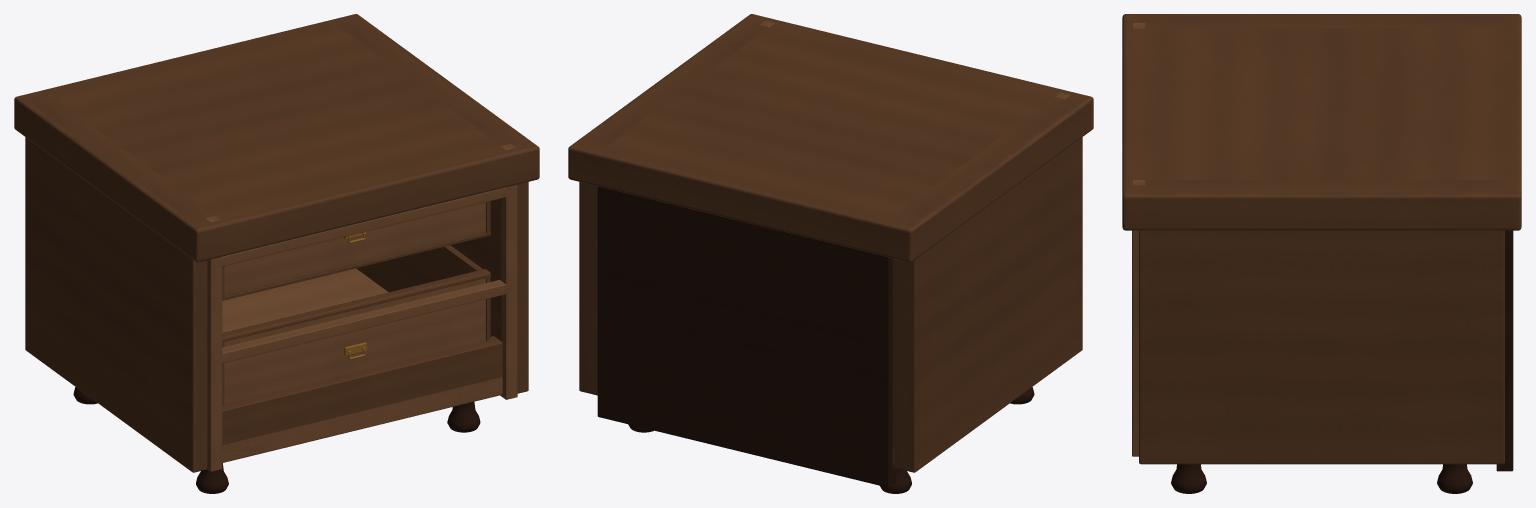
The model's file is asset.glb.
3 renders of one model, left to right at view 1: azimuth 30°, elevation 25°; view 2: azimuth 150°, elevation 25°; view 3: azimuth 270°, elevation 25°, orthographic. The views are drawn at different scales.
Parts seen in each view (by area): view 1: MaterialBatch_Room_furniture_quarter-sawn_oak, MaterialBatch_Room_furniture_light_oak, MaterialBatch_Room_furniture_smoked_walnut; view 2: MaterialBatch_Room_furniture_quarter-sawn_oak, MaterialBatch_Room_furniture_smoked_walnut; view 3: MaterialBatch_Room_furniture_quarter-sawn_oak, MaterialBatch_Room_furniture_smoked_walnut, MaterialBatch_Room_furniture_light_oak.
Part boxes in pixels (x1,y1,x2,y2): MaterialBatch_Room_furniture_quarter-sawn_oak: [14, 14, 539, 472]; MaterialBatch_Room_furniture_light_oak: [206, 144, 517, 471]; MaterialBatch_Room_furniture_smoked_walnut: [73, 387, 480, 493]; MaterialBatch_Room_furniture_quarter-sawn_oak: [568, 14, 1093, 472]; MaterialBatch_Room_furniture_smoked_walnut: [597, 186, 1034, 493]; MaterialBatch_Room_furniture_quarter-sawn_oak: [1122, 14, 1521, 464]; MaterialBatch_Room_furniture_smoked_walnut: [1171, 230, 1513, 493]; MaterialBatch_Room_furniture_light_oak: [1132, 23, 1145, 456].
Bounding box in the file's own units: 26 × 21 × 24.
4 materials, 4 textured.
